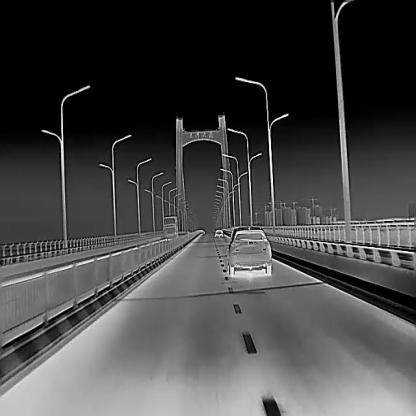bus: (163, 215, 178, 239)
car: (226, 225, 271, 275), (214, 228, 223, 236)
